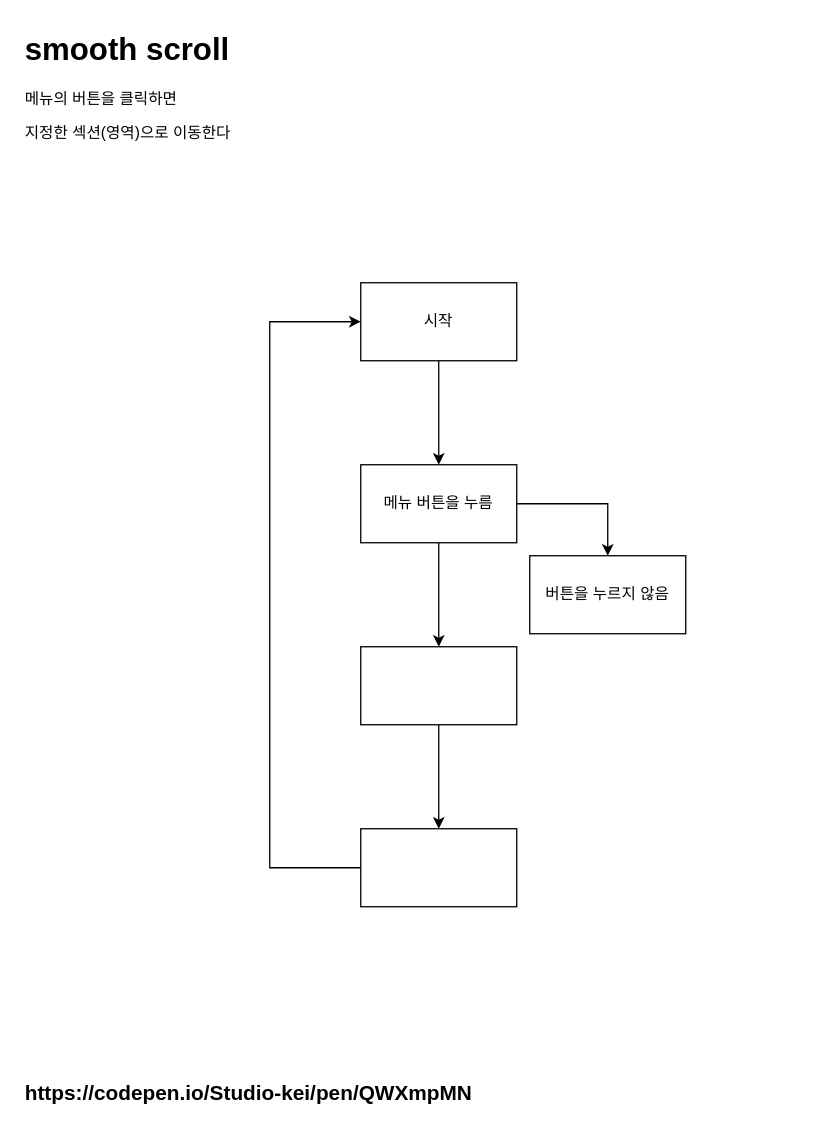
Some shapes in this 824 by 1140 pixel diagram are drawn without their labels. The box of each missing label's shape, as (x1, y1, x2, y2) in pixels:
버튼이 지정한 section으로 이동: (359, 645, 517, 725)
종료: (359, 827, 517, 907)
